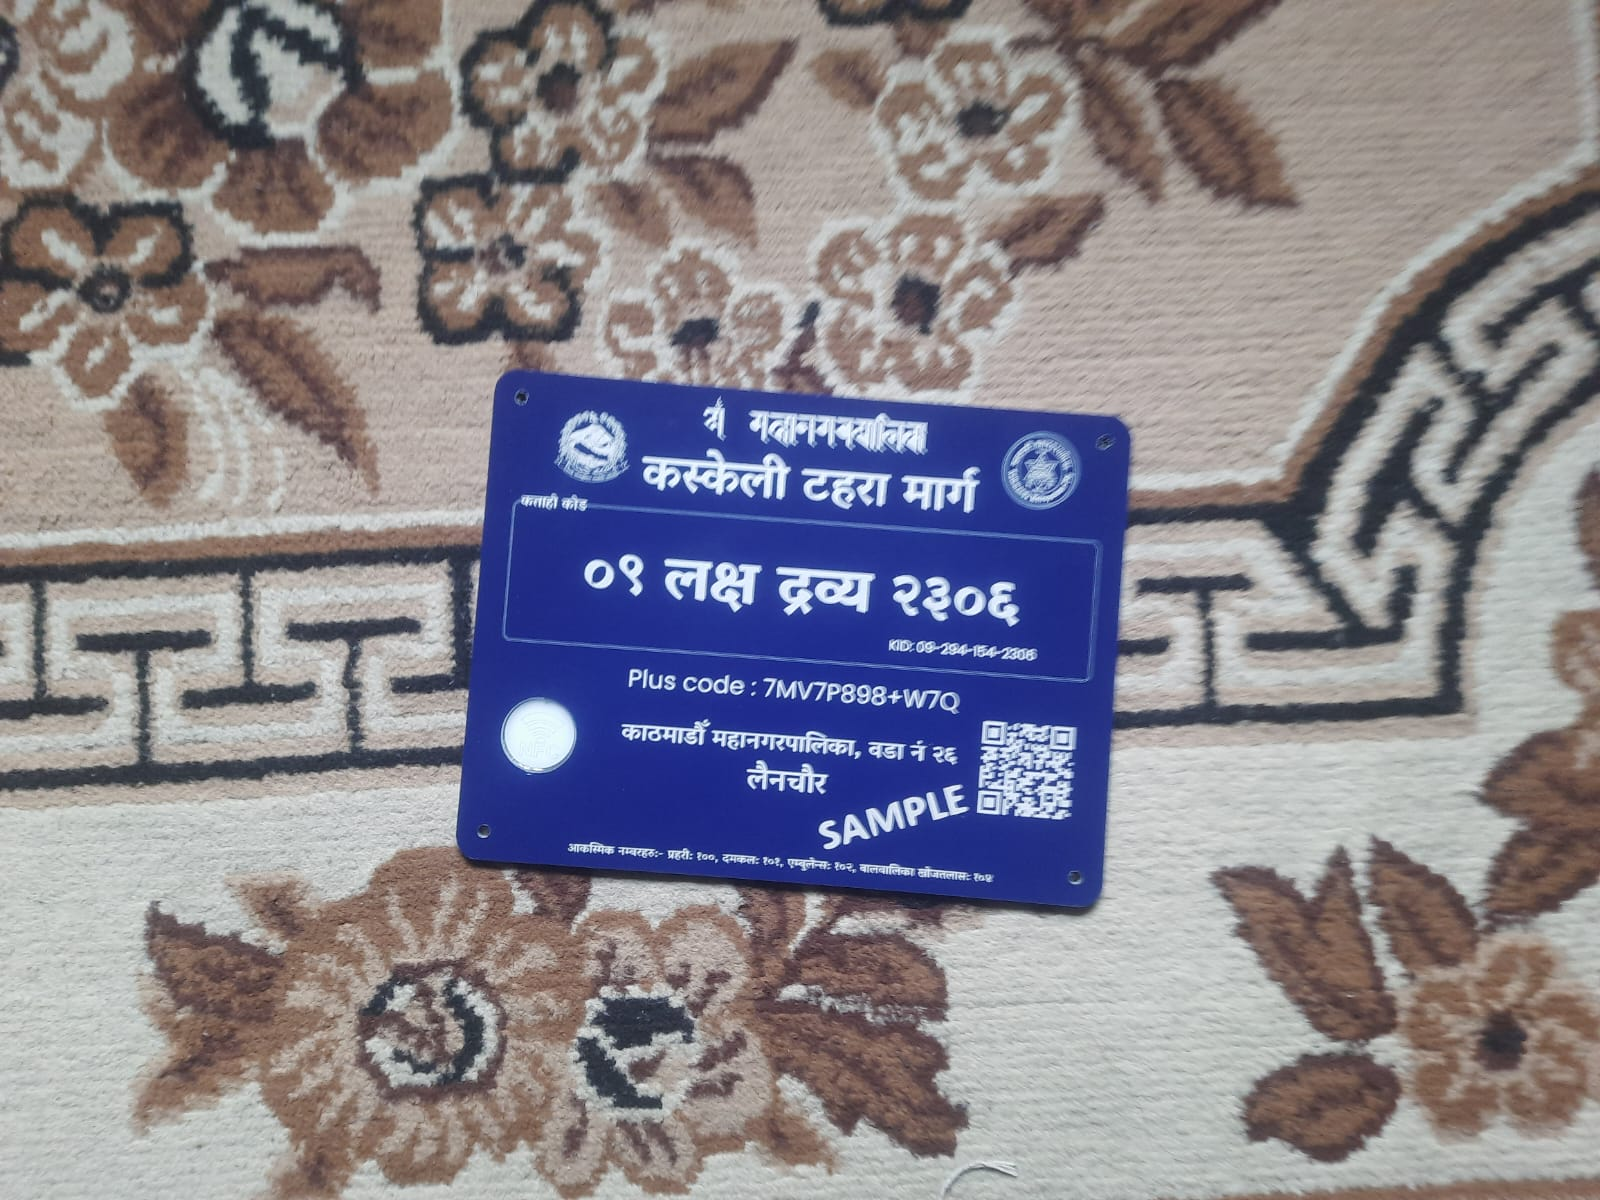Plate: (446, 352, 1149, 930)
